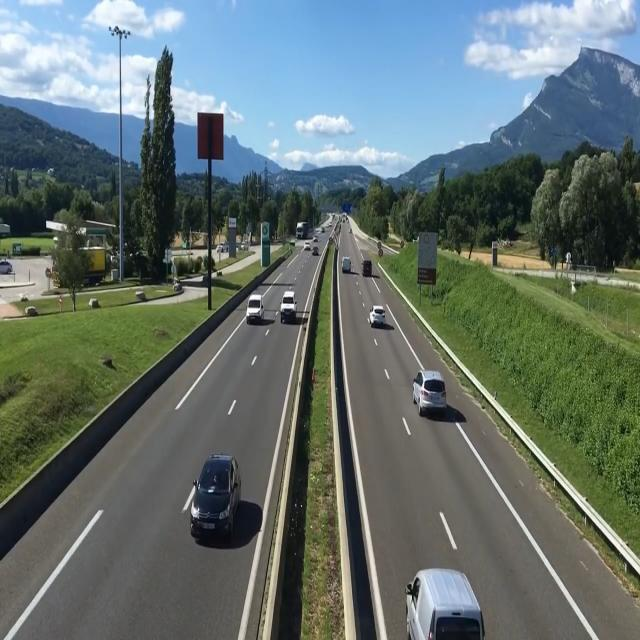car: (404, 565, 488, 640), (196, 457, 242, 546), (412, 368, 450, 424), (242, 291, 275, 328), (280, 283, 297, 326), (368, 306, 388, 332), (363, 256, 375, 280), (342, 253, 353, 276)
